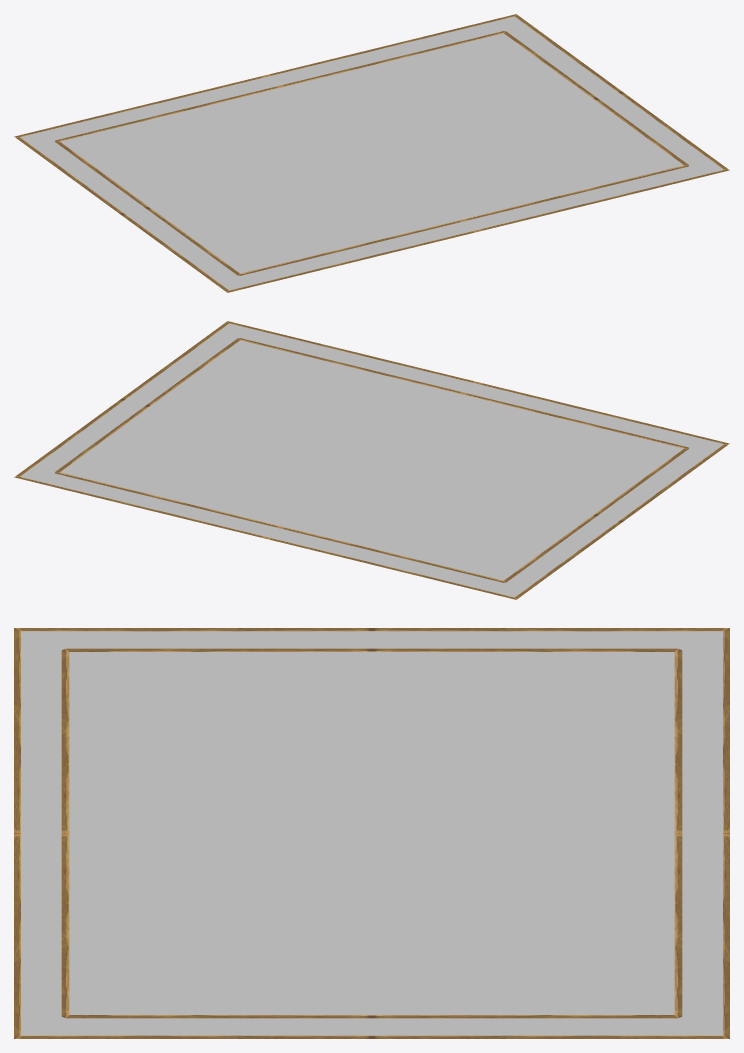
The model's file is Carpet_E.fbx.
The picture shows the model from 3 angles, top to bottom: view 1: azimuth 30°, elevation 25°; view 2: azimuth 150°, elevation 25°; view 3: azimuth 270°, elevation 25°; orthographic projection. The views are drawn at different scales.
Parts seen in each view (by area): view 1: Carpet_E; view 2: Carpet_E; view 3: Carpet_E.
Part boxes in pixels (x1=…): Carpet_E: x1=14, y1=14, x2=729, y2=292; Carpet_E: x1=14, y1=321, x2=729, y2=599; Carpet_E: x1=14, y1=628, x2=729, y2=1038.
Size of the model in its own units: 0.6705 by 3.02e-17 by 0.4937.
